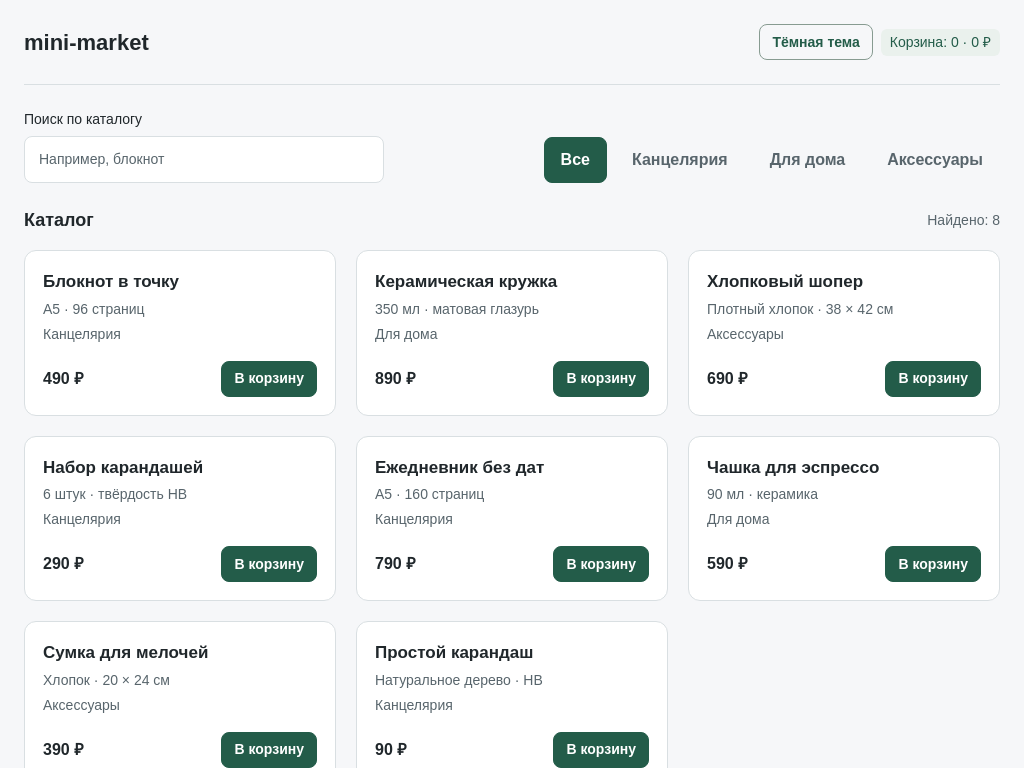
Каталог › показывает загрузку, пустое состояние и сбрасывает оба фильтра
The image size is (1024, 768).
Expected: the text "Загружаем товары…" is shown, x1=927 y1=210 x2=1000 y2=231
Click the button "Для дома": click(807, 160) x1=753 y1=137 x2=862 y2=183
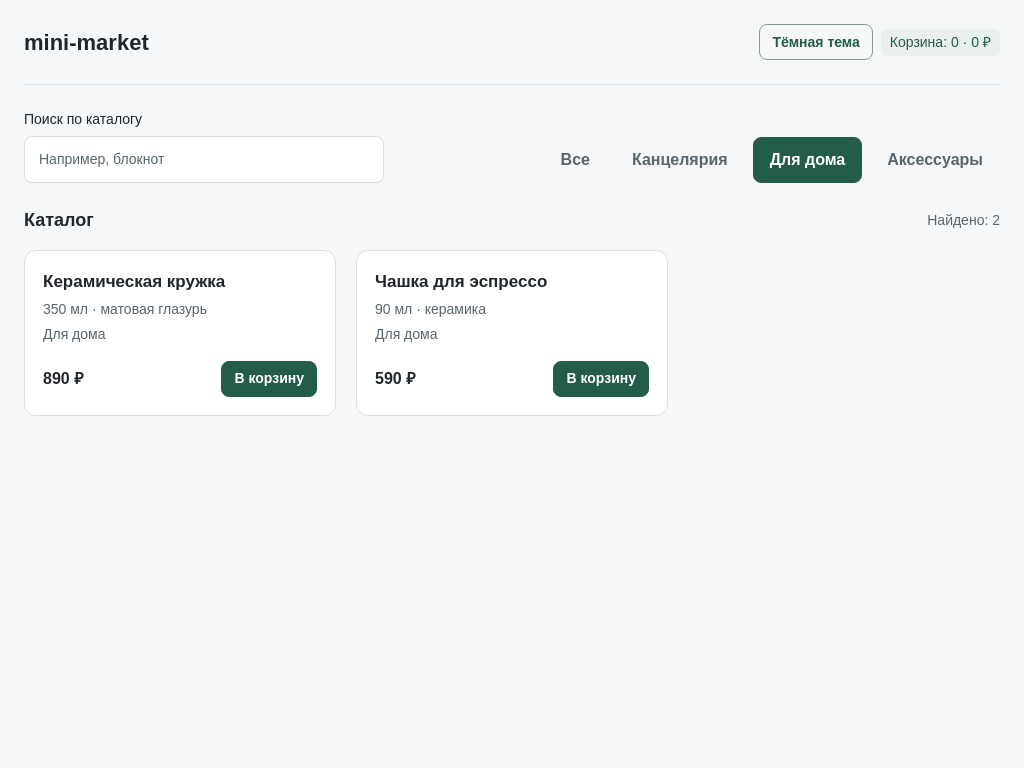
In the search field: (204, 160) x1=24 y1=136 x2=384 y2=183, type "блокнот"
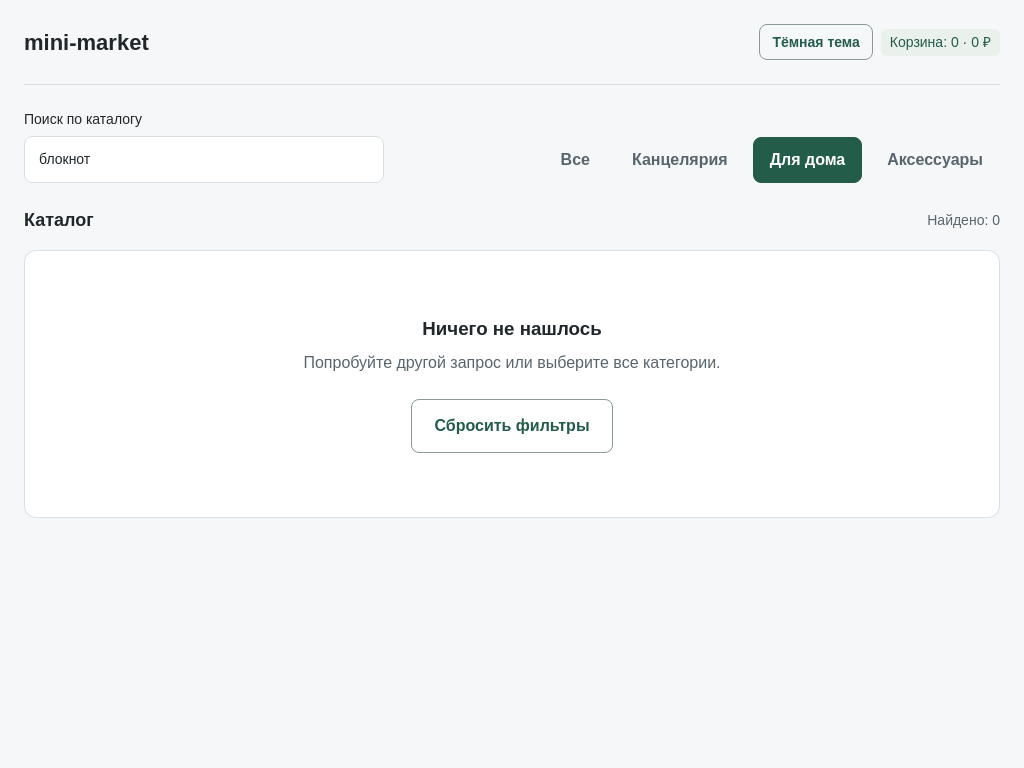
Now the heading "Ничего не нашлось" is shown, box x1=422 y1=318 x2=602 y2=339
Click the button "Сбросить фильтры": click(512, 426) x1=411 y1=399 x2=612 y2=453
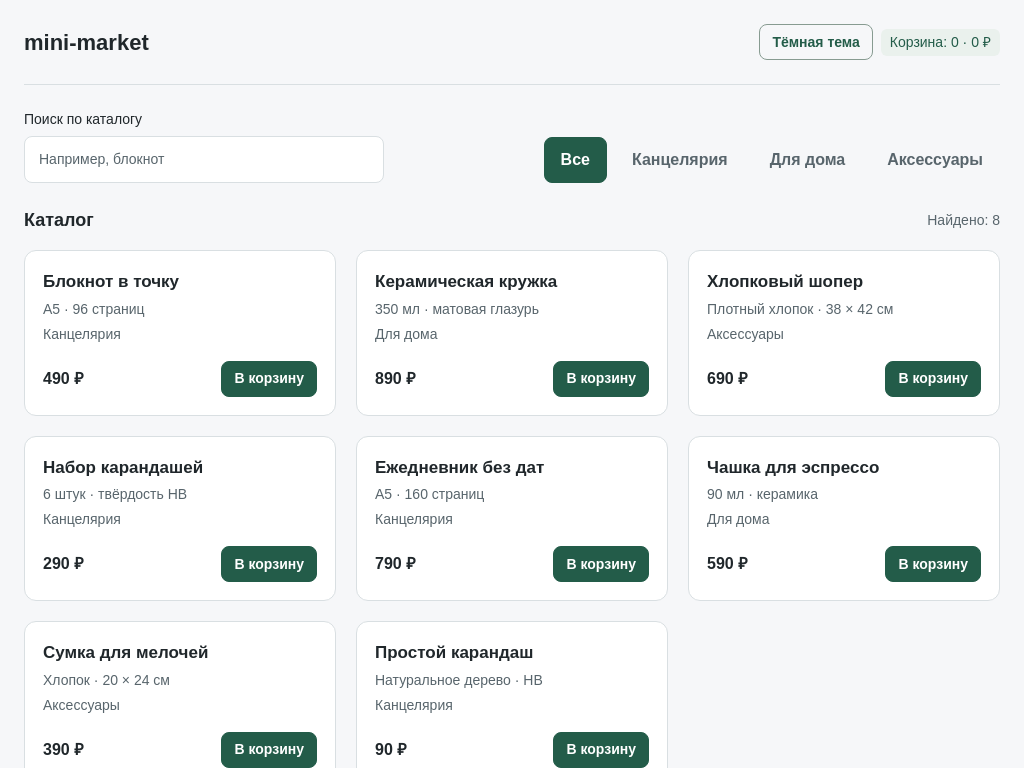
Now the number of buttons named "В корзину:" is 8
Now the search field is empty, box x1=24 y1=136 x2=384 y2=183
